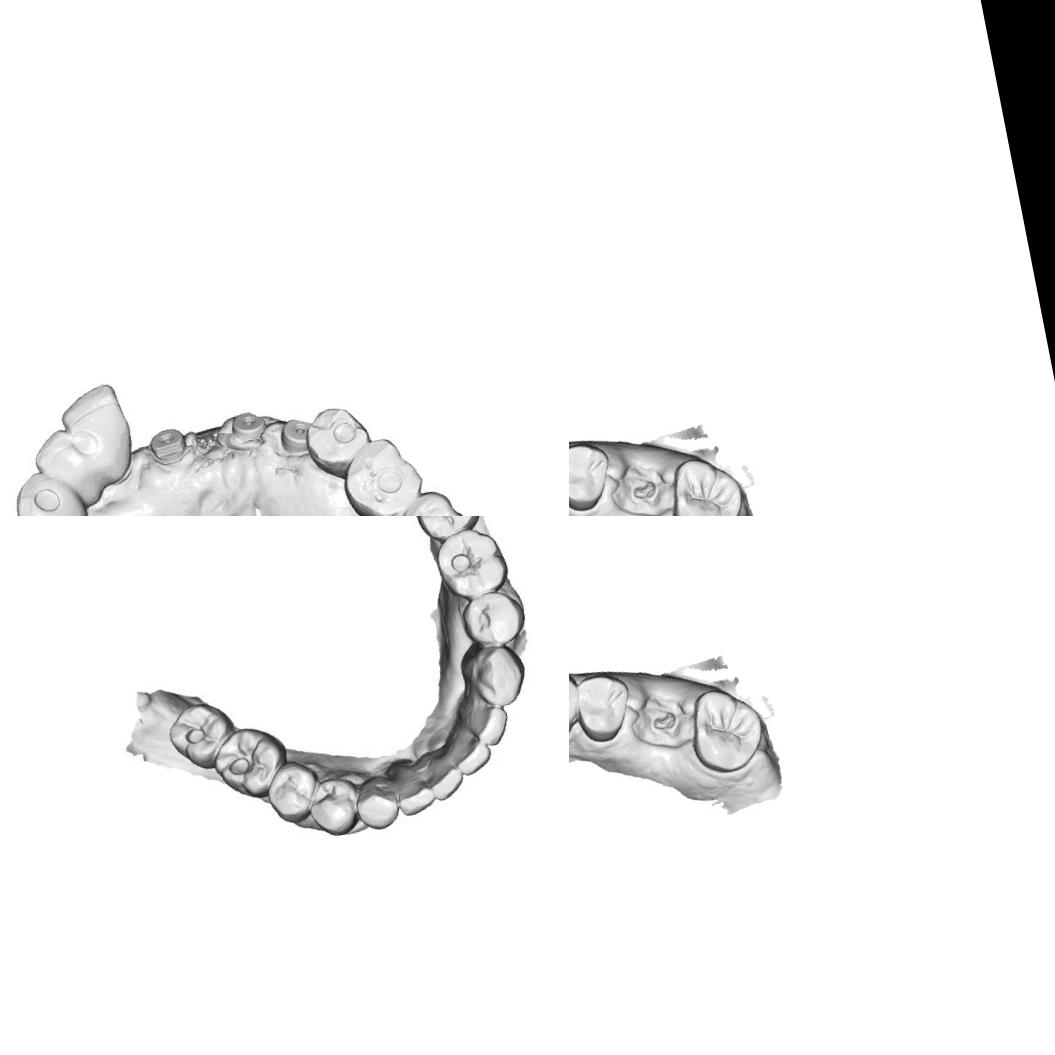canine: (456, 636, 534, 712), (1, 461, 89, 516), (353, 773, 402, 833)
implant: (219, 404, 271, 454), (146, 426, 188, 469), (278, 416, 316, 454)
incisor: (54, 377, 142, 490), (26, 418, 108, 516), (422, 742, 468, 797), (467, 696, 516, 746), (395, 764, 438, 813), (449, 726, 493, 772)
molar: (679, 677, 774, 779), (332, 430, 432, 516), (210, 718, 294, 804), (659, 446, 753, 516), (432, 522, 512, 602), (164, 693, 241, 773), (387, 480, 481, 516), (401, 516, 480, 544)
premolar: (302, 399, 373, 481), (571, 665, 637, 747), (456, 587, 527, 652), (261, 758, 324, 830), (306, 771, 364, 841), (569, 434, 617, 516), (569, 664, 587, 747)
